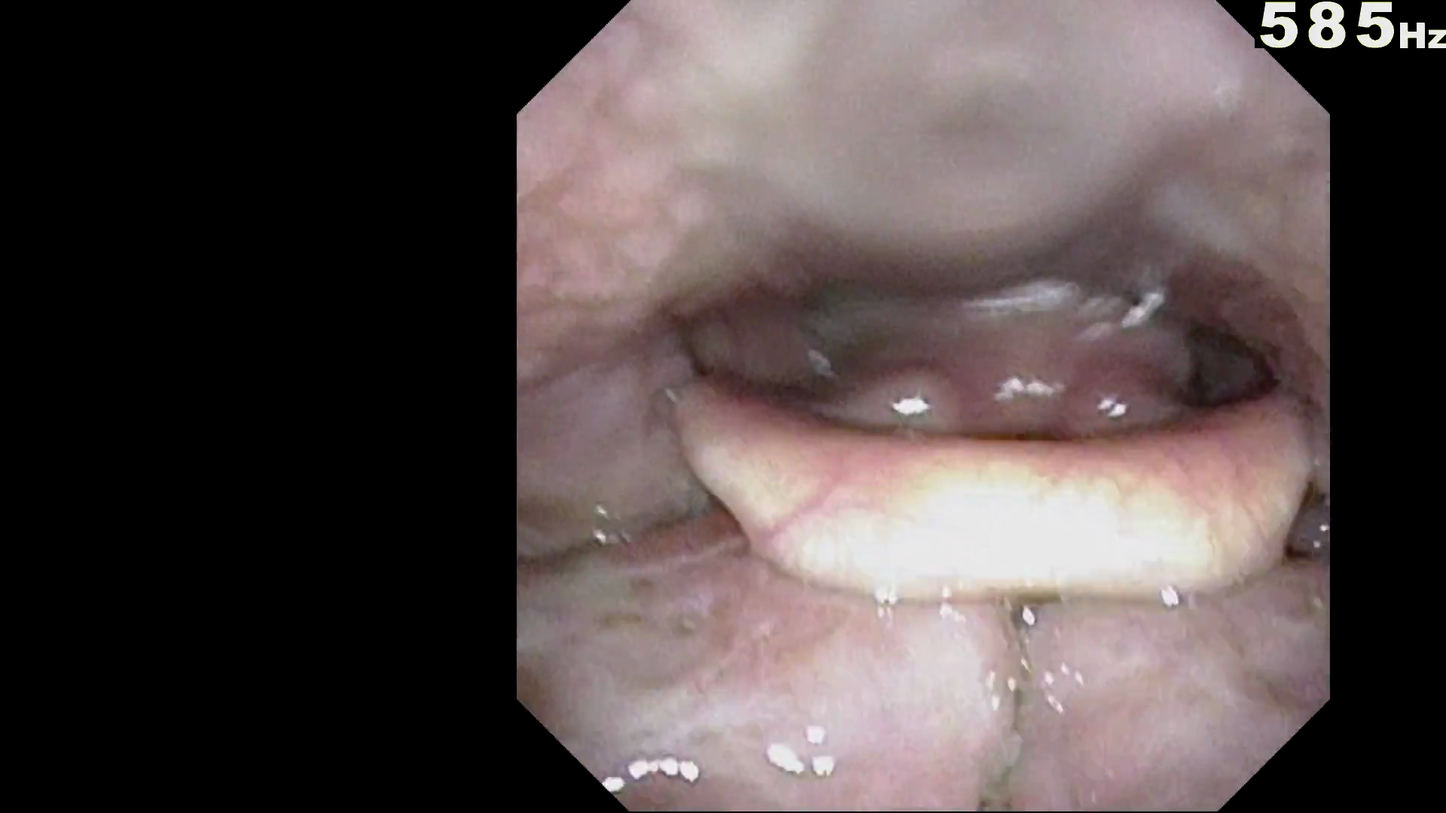epiglottis: (649, 350, 1323, 651)
trachea: (938, 423, 1067, 496)
